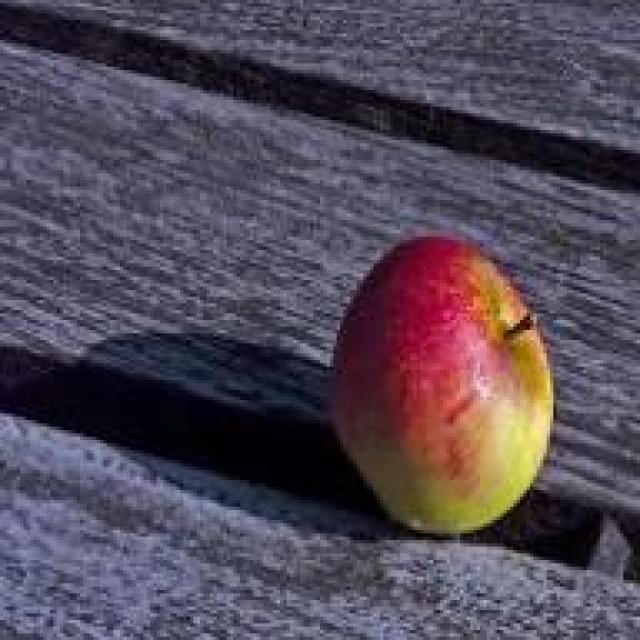apple: (333, 240, 547, 533)
